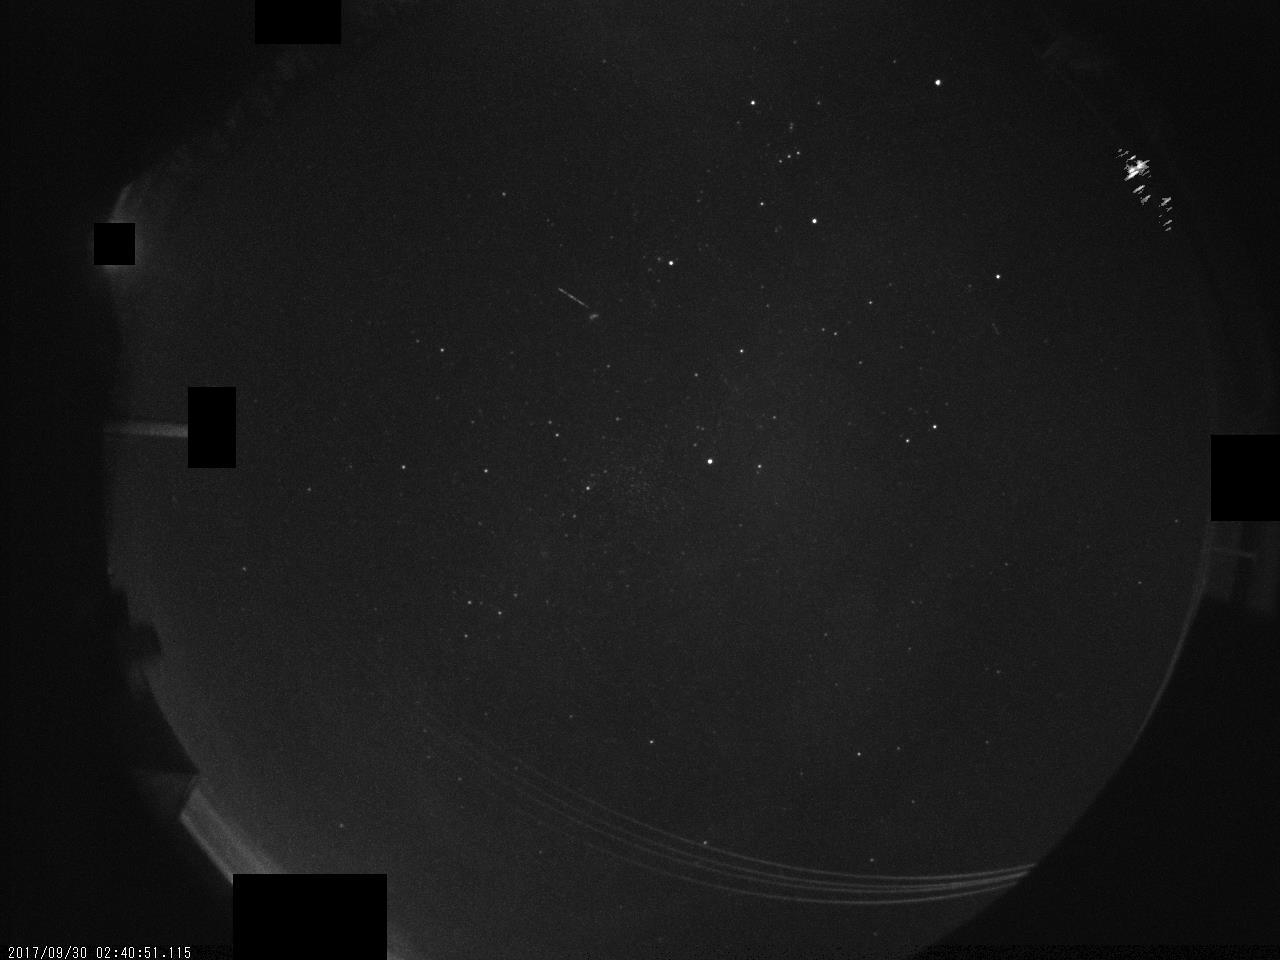TLE: (1100, 134, 1185, 246)
